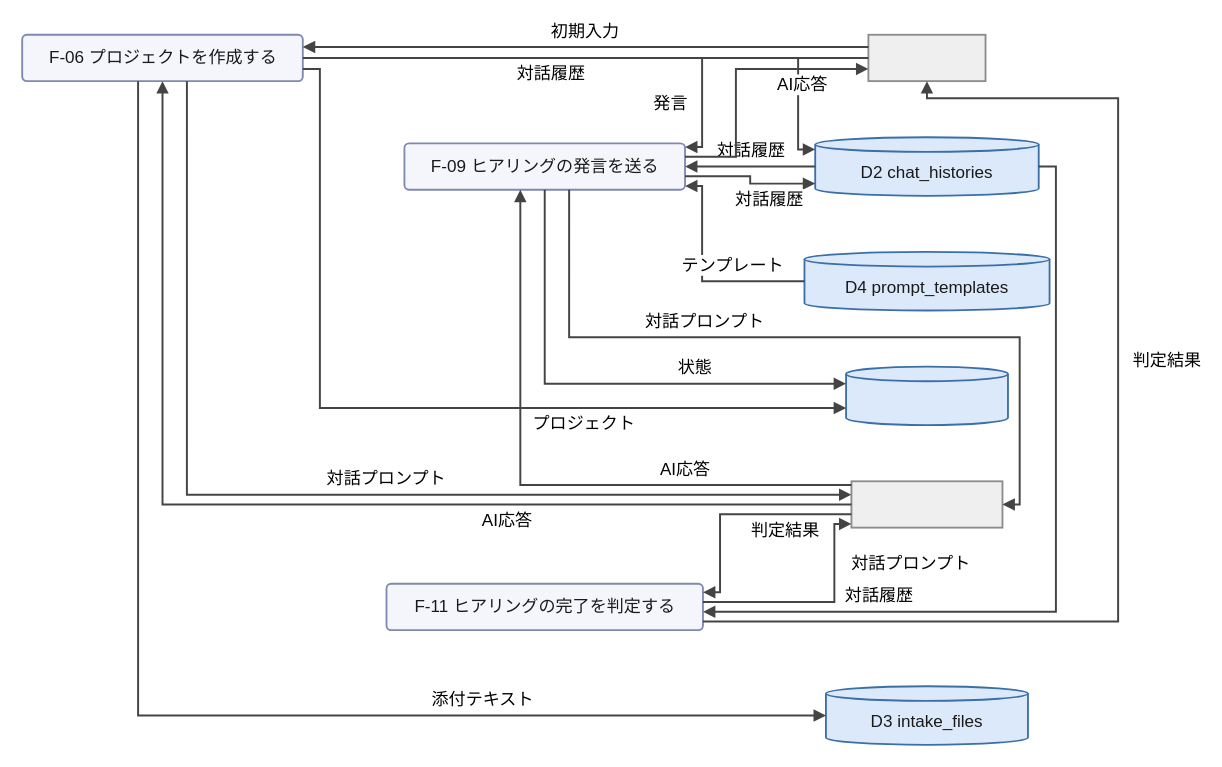
This 1222x767 diagram has some shape labels left out. The shapes that lost their labels are listed below. From the top down, each one's centre as x and y in pixels, then its label:
At point 926,57: "利用者".
At point 926,395: "D1 projects".
At point 926,504: "Gemini(LLM)".
